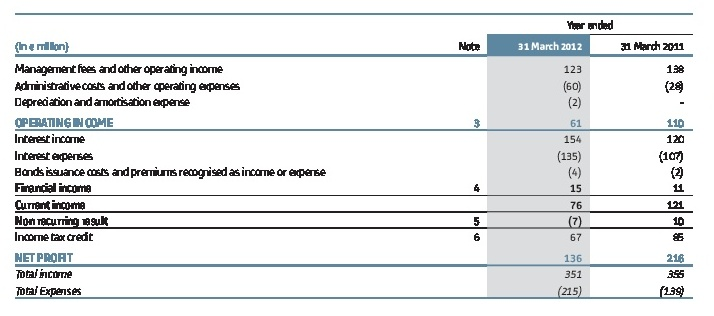table: (0, 0, 714, 316)
